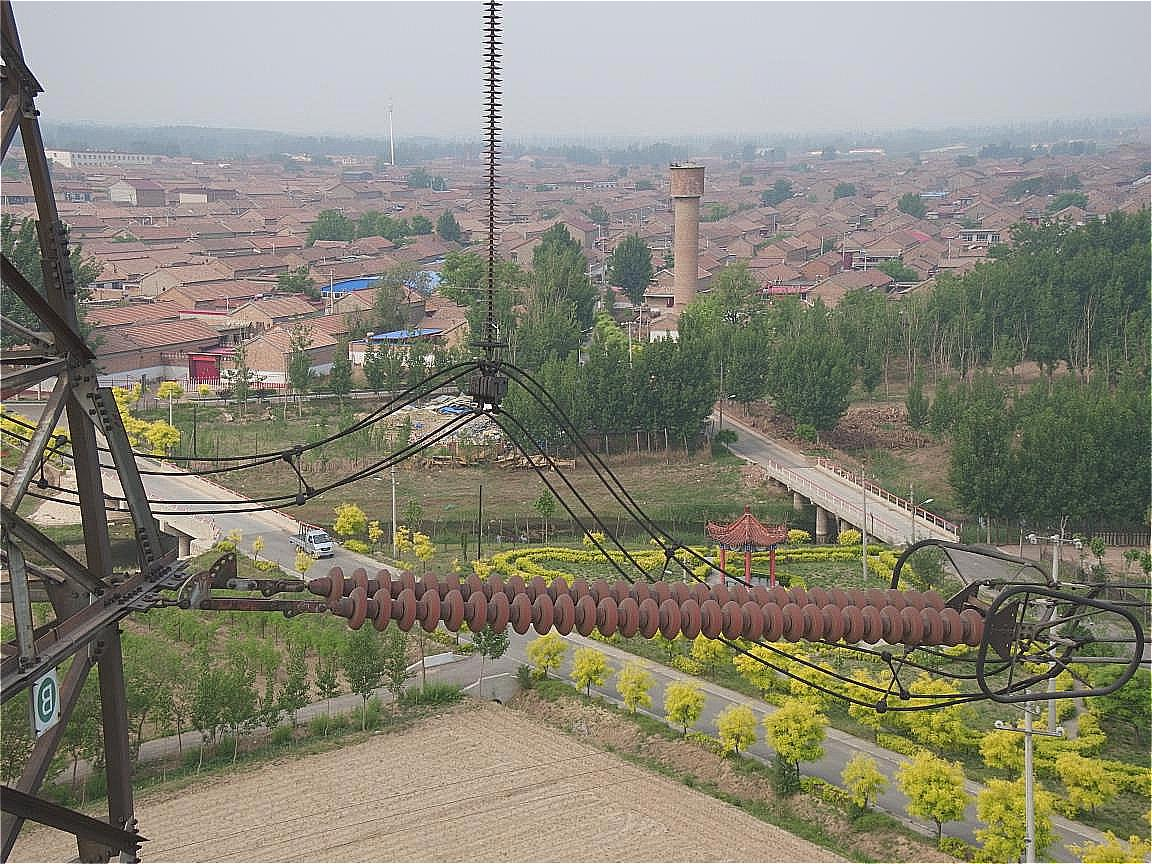insultor1: (285, 559, 1014, 659)
